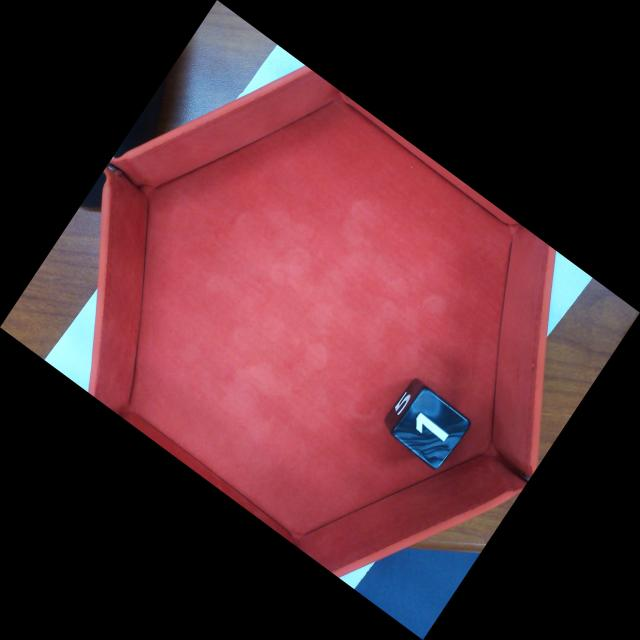dice: (391, 386, 473, 473)
